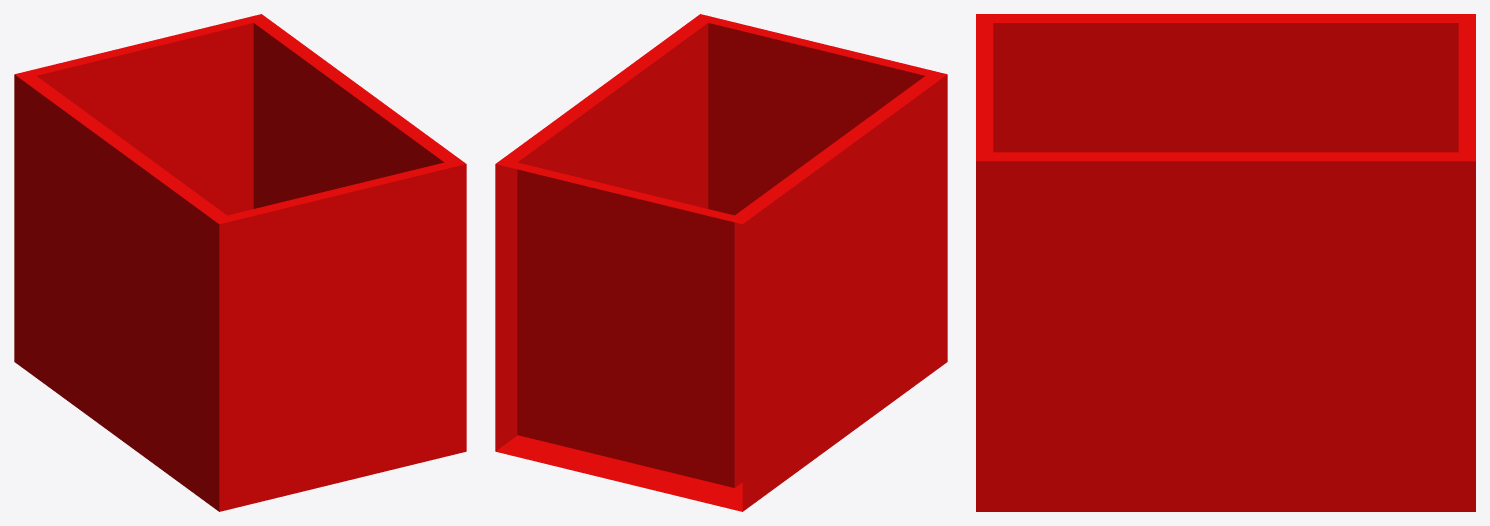
Rendered from WitchShop_Drawer3.fbx.
3 views of the same model, side by side, from view 1: azimuth 30°, elevation 25°; view 2: azimuth 150°, elevation 25°; view 3: azimuth 270°, elevation 25° (orthographic). The views are drawn at different scales.
Visible parts, largest first — view 1: Drawer3; view 2: Drawer3; view 3: Drawer3.
Boxes of the visible parts, x1=… form: Drawer3: x1=14, y1=14, x2=466, y2=511; Drawer3: x1=495, y1=14, x2=947, y2=511; Drawer3: x1=976, y1=14, x2=1475, y2=511.
Bounding box in the file's own units: 63.27 × 70.33 × 90.84.
